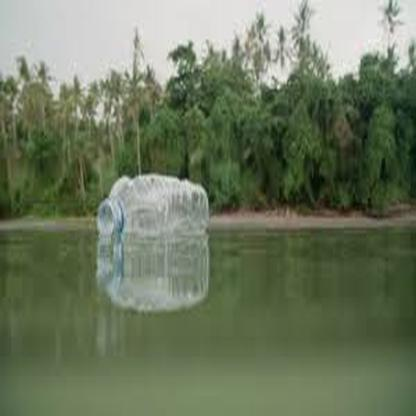plastic bottle: (100, 175, 211, 237)
